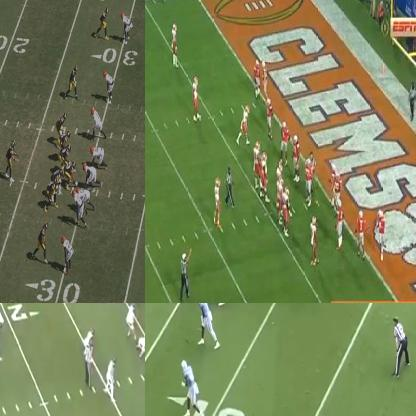CENTER: (63, 160, 77, 184), (277, 163, 284, 182)
DB: (374, 206, 384, 254), (61, 236, 73, 272), (104, 70, 115, 103), (337, 201, 344, 248), (121, 12, 131, 40), (359, 213, 365, 255), (254, 58, 260, 98), (262, 60, 268, 93)
LB: (72, 188, 85, 232), (125, 304, 136, 337), (86, 329, 95, 369), (94, 105, 104, 135), (107, 358, 115, 395), (268, 99, 272, 137), (328, 164, 336, 183)
QB: (212, 179, 222, 226), (6, 140, 16, 183)
SKILL: (183, 359, 199, 415), (198, 303, 214, 343), (40, 222, 50, 262), (310, 214, 318, 260), (191, 80, 201, 116), (69, 66, 79, 96), (242, 106, 250, 142), (98, 8, 108, 36), (171, 25, 177, 64), (335, 172, 341, 206), (58, 110, 67, 132)
